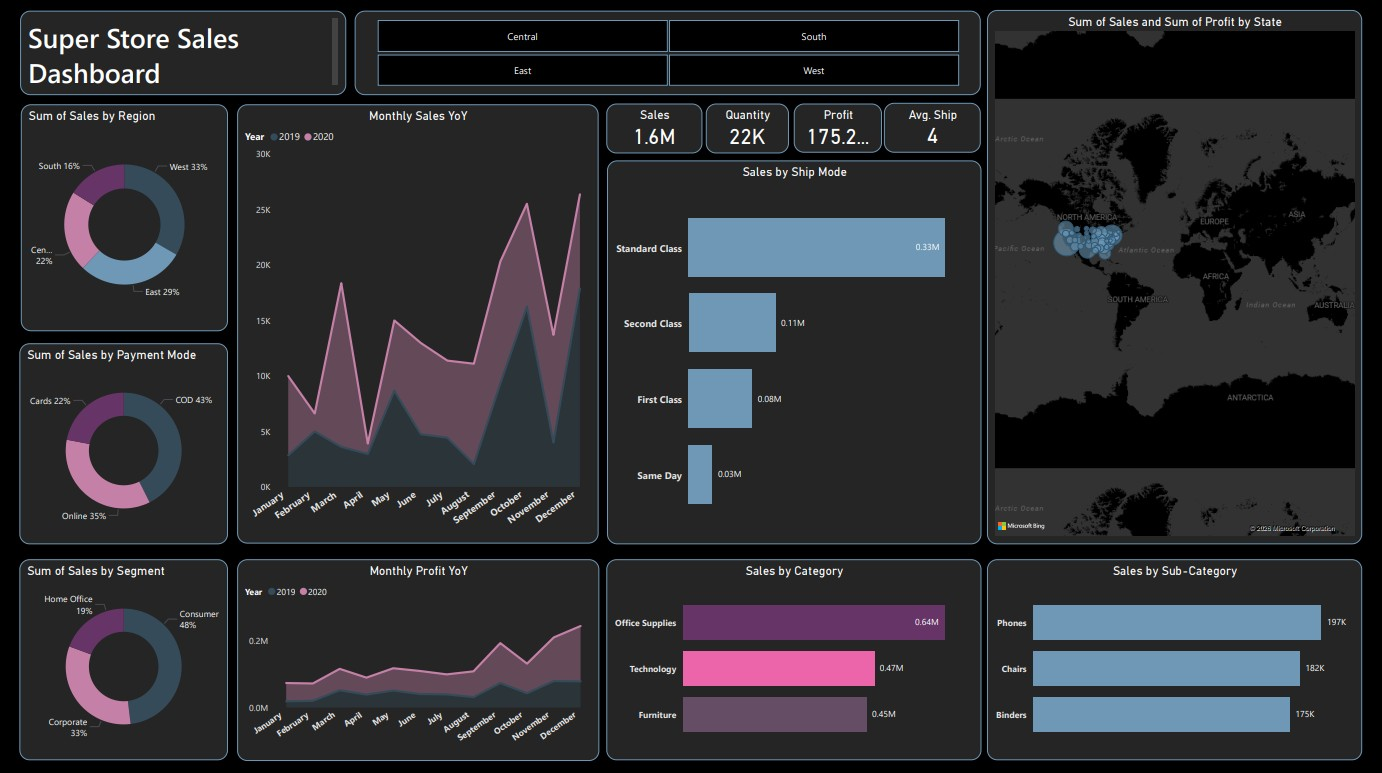

The page's visual inventory and layout, read from the dashboard file:
{"tool":"powerbi","page":{"name":"Page 1","canvas":[1920,1080],"ordinal":0},"visuals":[{"type":"clusteredBarChart","title":"Sales by Category","fields":{"Category":["SuperStore_Sales_Dataset.Category"],"Y":["Sum(SuperStore_Sales_Dataset.Sales)"]},"box":[841.7,778.3,520,278.3],"z":0},{"type":"clusteredBarChart","title":"Sales by Sub-Category","fields":{"Category":["SuperStore_Sales_Dataset.Sub-Category"],"Y":["Sum(SuperStore_Sales_Dataset.Sales)"]},"box":[1370,778.3,520,278.3],"z":1000},{"type":"clusteredBarChart","title":"Sales by Ship Mode","fields":{"Category":["SuperStore_Sales_Dataset.Ship Mode"],"Y":["Sum(SuperStore_Sales_Dataset.Sales)"]},"box":[843.3,224.4,518.9,532.2],"z":2000},{"type":"stackedAreaChart","title":"Monthly Profit YoY","fields":{"Y":["Sum(SuperStore_Sales_Dataset.Sales)"],"Category":["SuperStore_Sales_Dataset.Order Date.Variation.Date Hierarchy.Month"],"Series":["SuperStore_Sales_Dataset.Order Date.Variation.Date Hierarchy.Year"]},"box":[330,778.3,501.7,280],"z":3000},{"type":"stackedAreaChart","title":"Monthly Sales YoY","fields":{"Category":["SuperStore_Sales_Dataset.Order Date.Variation.Date Hierarchy.Month"],"Series":["SuperStore_Sales_Dataset.Order Date.Variation.Date Hierarchy.Year"],"Y":["Sum(SuperStore_Sales_Dataset.Profit)"]},"box":[330,145.7,501.4,610],"z":4000},{"type":"map","fields":{"Category":["SuperStore_Sales_Dataset.State"],"Size":["Sum(SuperStore_Sales_Dataset.Sales)"]},"box":[1370,15,520,741.7],"z":5000},{"type":"donutChart","fields":{"Category":["SuperStore_Sales_Dataset.Segment"],"Y":["Sum(SuperStore_Sales_Dataset.Sales)"]},"box":[28.3,778.3,288.3,278.3],"z":6000},{"type":"slicer","fields":{"Values":["SuperStore_Sales_Dataset.Region"]},"box":[492.9,15.7,868.6,117.1],"z":7000},{"type":"textbox","box":[28.6,15.7,452.9,117.1],"z":8000},{"type":"donutChart","fields":{"Category":["SuperStore_Sales_Dataset.Payment Mode","SuperStore_Sales_Dataset.Segment"],"Y":["Sum(SuperStore_Sales_Dataset.Sales)"]},"box":[28.3,478.3,288.3,278.3],"z":9000},{"type":"card","title":"Sales","fields":{"Values":["Sum(SuperStore_Sales_Dataset.Sales)"]},"box":[841.8,145.5,132.7,68.2],"z":10000},{"type":"card","title":"Quantity","fields":{"Values":["Sum(SuperStore_Sales_Dataset.Quantity)"]},"box":[980,145.5,115.5,68.2],"z":11000},{"type":"card","title":"Profit","fields":{"Values":["Sum(SuperStore_Sales_Dataset.Profit)"]},"box":[1101.8,144.5,121.8,68.2],"z":12000},{"type":"card","title":"Avg. Ship","fields":{"Values":["Avg(SuperStore_Sales_Dataset.Avg_Delivery)"]},"box":[1227.1,144.3,134.3,68.6],"z":13000},{"type":"donutChart","fields":{"Y":["Sum(SuperStore_Sales_Dataset.Sales)"],"Category":["SuperStore_Sales_Dataset.Region"]},"box":[30,145.7,287.1,315.7],"z":14000}]}

Visuals, with their boxes in screenshot pixels (x1, y1, x2, y2), scaled from the page's 1920x1080 canvas onto the 1382x773 screenshot:
"Sales by Category" clusteredBarChart: [x1=606, y1=557, x2=980, y2=756]
"Sales by Sub-Category" clusteredBarChart: [x1=986, y1=557, x2=1360, y2=756]
"Sales by Ship Mode" clusteredBarChart: [x1=607, y1=161, x2=981, y2=542]
"Monthly Profit YoY" stackedAreaChart: [x1=238, y1=557, x2=599, y2=757]
"Monthly Sales YoY" stackedAreaChart: [x1=238, y1=104, x2=598, y2=541]
map - SuperStore_Sales_Dataset.State x Sum(SuperStore_Sales_Dataset.Sales): [x1=986, y1=11, x2=1360, y2=542]
donutChart - SuperStore_Sales_Dataset.Segment x Sum(SuperStore_Sales_Dataset.Sales): [x1=20, y1=557, x2=228, y2=756]
slicer - SuperStore_Sales_Dataset.Region: [x1=355, y1=11, x2=980, y2=95]
textbox: [x1=21, y1=11, x2=347, y2=95]
donutChart - SuperStore_Sales_Dataset.Payment Mode x SuperStore_Sales_Dataset.Segment: [x1=20, y1=342, x2=228, y2=542]
"Sales" card: [x1=606, y1=104, x2=701, y2=153]
"Quantity" card: [x1=705, y1=104, x2=789, y2=153]
"Profit" card: [x1=793, y1=103, x2=881, y2=152]
"Avg. Ship" card: [x1=883, y1=103, x2=980, y2=152]
donutChart - Sum(SuperStore_Sales_Dataset.Sales) x SuperStore_Sales_Dataset.Region: [x1=22, y1=104, x2=228, y2=330]
